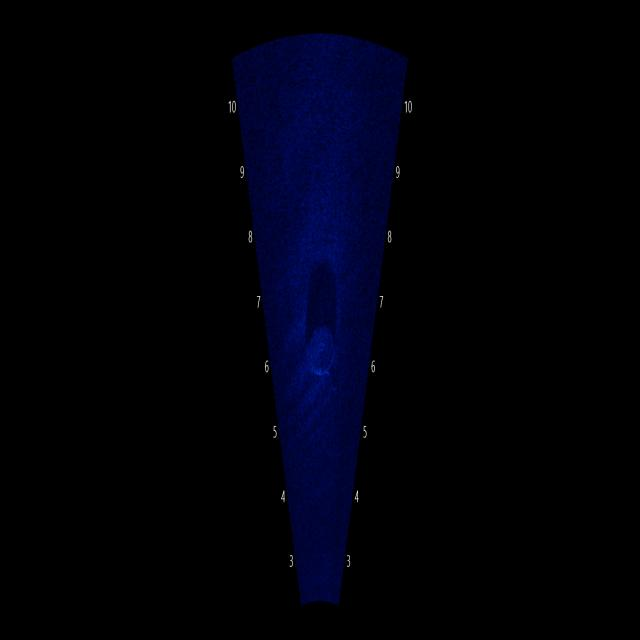circle: (299, 298, 347, 389)
